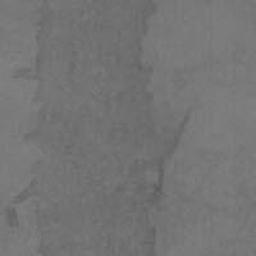Water spot: (4, 0, 196, 256)
